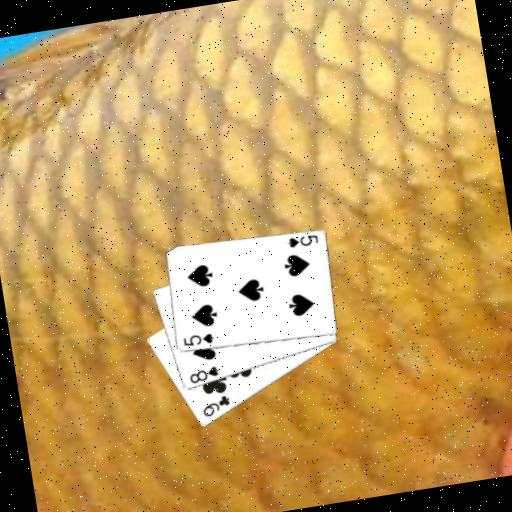5S: (178, 329, 215, 350), (283, 231, 319, 251)
8S: (185, 362, 221, 386)
9C: (197, 392, 233, 420)
